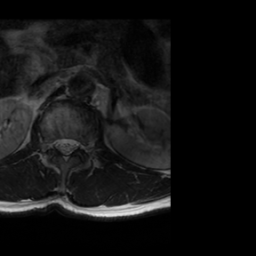CCS_normal: (62, 132, 69, 165)
LFS_stenosis: (79, 134, 88, 157)
LLS_normal: (70, 133, 79, 157)
RFS_normal: (46, 133, 53, 156)
RLS_normal: (53, 133, 62, 155)
